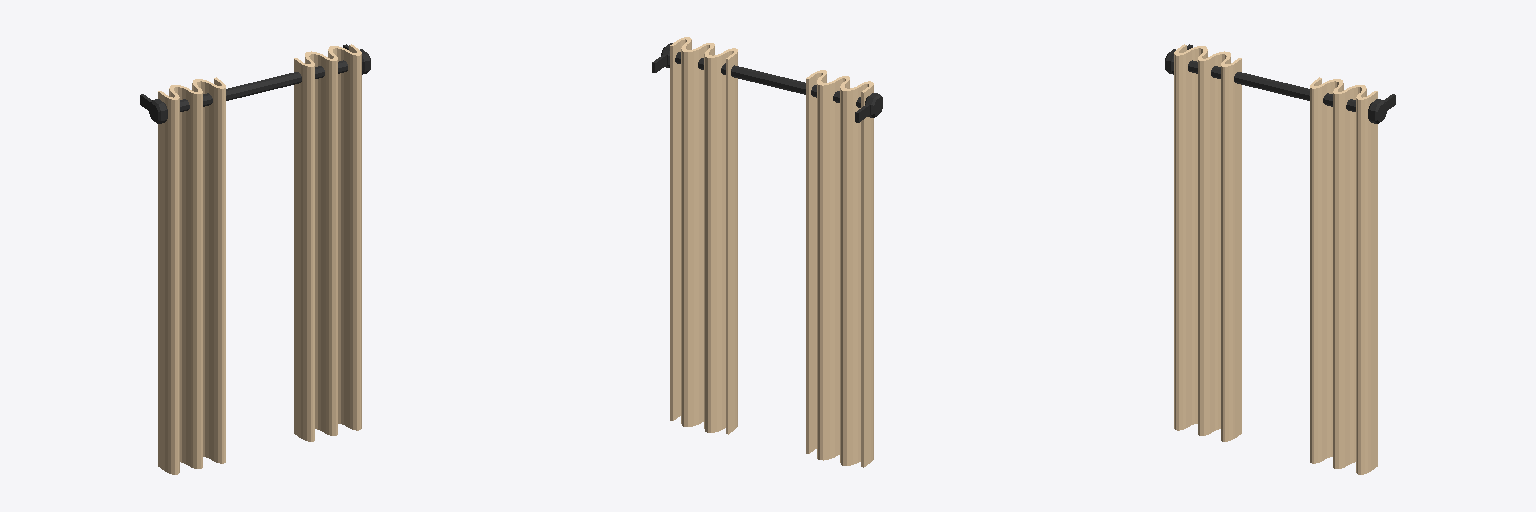
The model's file is Small_Curtain.obj.
3 views of the same model, side by side, from view 1: azimuth 30°, elevation 25°; view 2: azimuth 150°, elevation 25°; view 3: azimuth 330°, elevation 25° (orthographic).
Parts seen in each view (by area): view 1: mergedBlocks; view 2: mergedBlocks; view 3: mergedBlocks.
Boxes of the visible parts, <box> form: mergedBlocks: <box>140,44,370,474</box>; mergedBlocks: <box>652,37,882,467</box>; mergedBlocks: <box>1165,44,1395,474</box>.
Size of the model in its own units: 1.1 by 1.85 by 0.225.